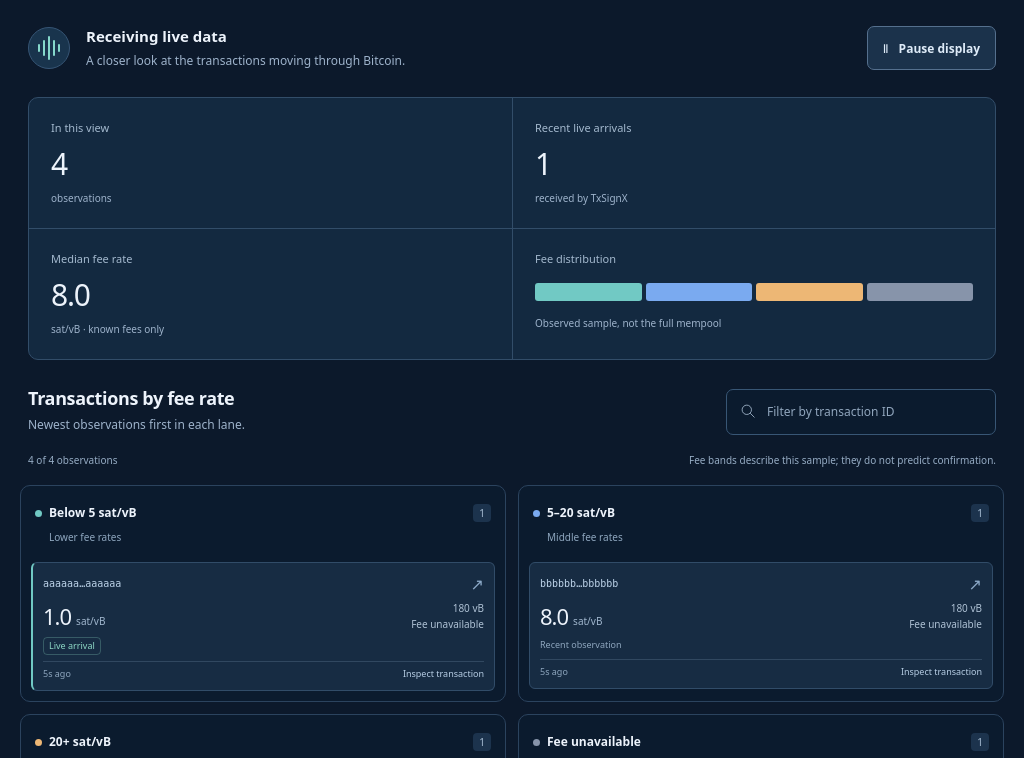
Test case: filters transaction IDs without treating the filtered count as the network total
Type "bbbbbb" into the search field named "Filter flow transactions" at (874, 412), box top-left (767, 390), bottom-right (982, 434)
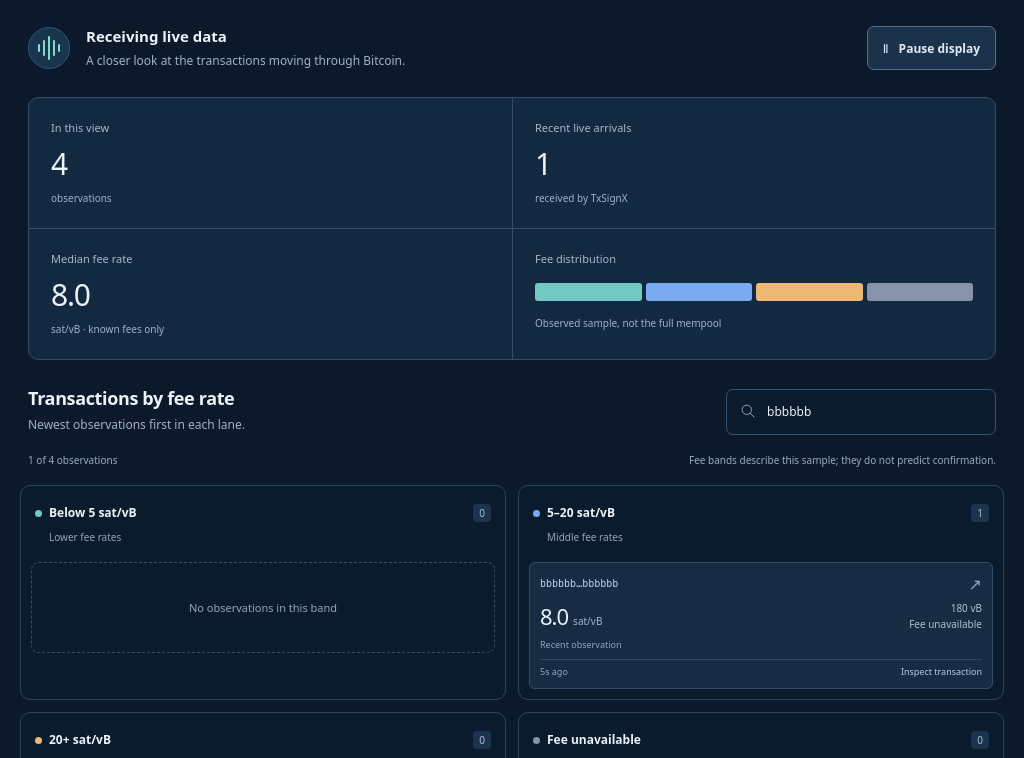
Check: the button with aria-label "Inspect bbbbbb" is shown, box top-left (529, 562), bottom-right (993, 689)
Check: the text "1 of 4 observations" is shown, box top-left (28, 453), bottom-right (117, 467)
